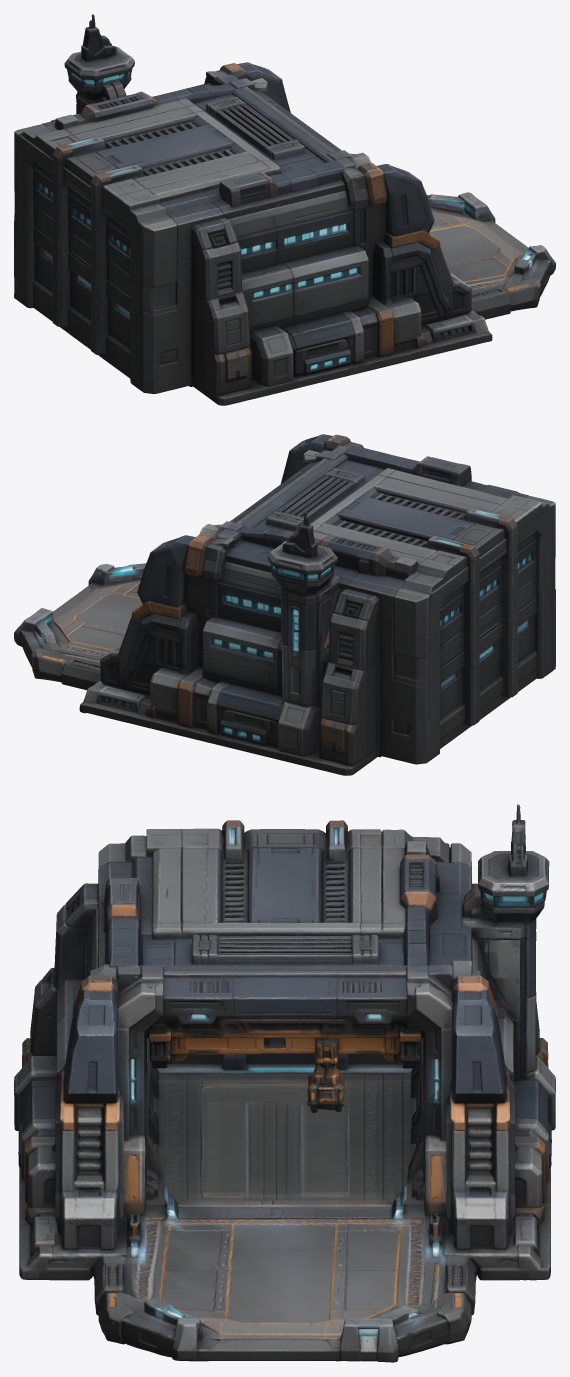
The model's file is space_hangar.glb.
3 renders of one model, top to bottom at view 1: azimuth 30°, elevation 25°; view 2: azimuth 150°, elevation 25°; view 3: azimuth 270°, elevation 25°, orthographic. The views are drawn at different scales.
Parts seen in each view (by area): view 1: tripo_node_2c396929-54bf-4852-b131-9aafca0bd66b; view 2: tripo_node_2c396929-54bf-4852-b131-9aafca0bd66b; view 3: tripo_node_2c396929-54bf-4852-b131-9aafca0bd66b.
Boxes of the visible parts, <box> form: tripo_node_2c396929-54bf-4852-b131-9aafca0bd66b: <box>14,14,555,405</box>; tripo_node_2c396929-54bf-4852-b131-9aafca0bd66b: <box>14,434,555,775</box>; tripo_node_2c396929-54bf-4852-b131-9aafca0bd66b: <box>14,804,555,1362</box>.
Bounding box in the file's own units: 1 × 0.5438 × 0.7783.
1 material, 1 textured.
